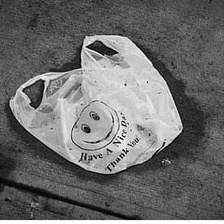plastic_bag: (4, 31, 185, 177)
